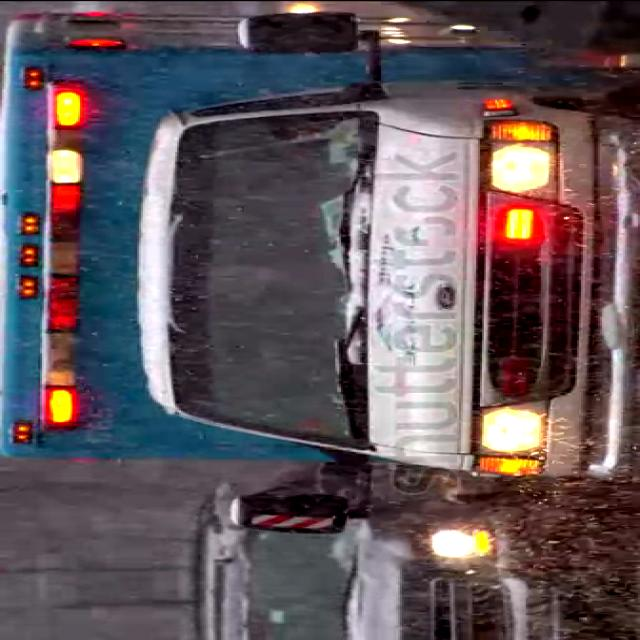ambulance: (2, 9, 640, 525)
